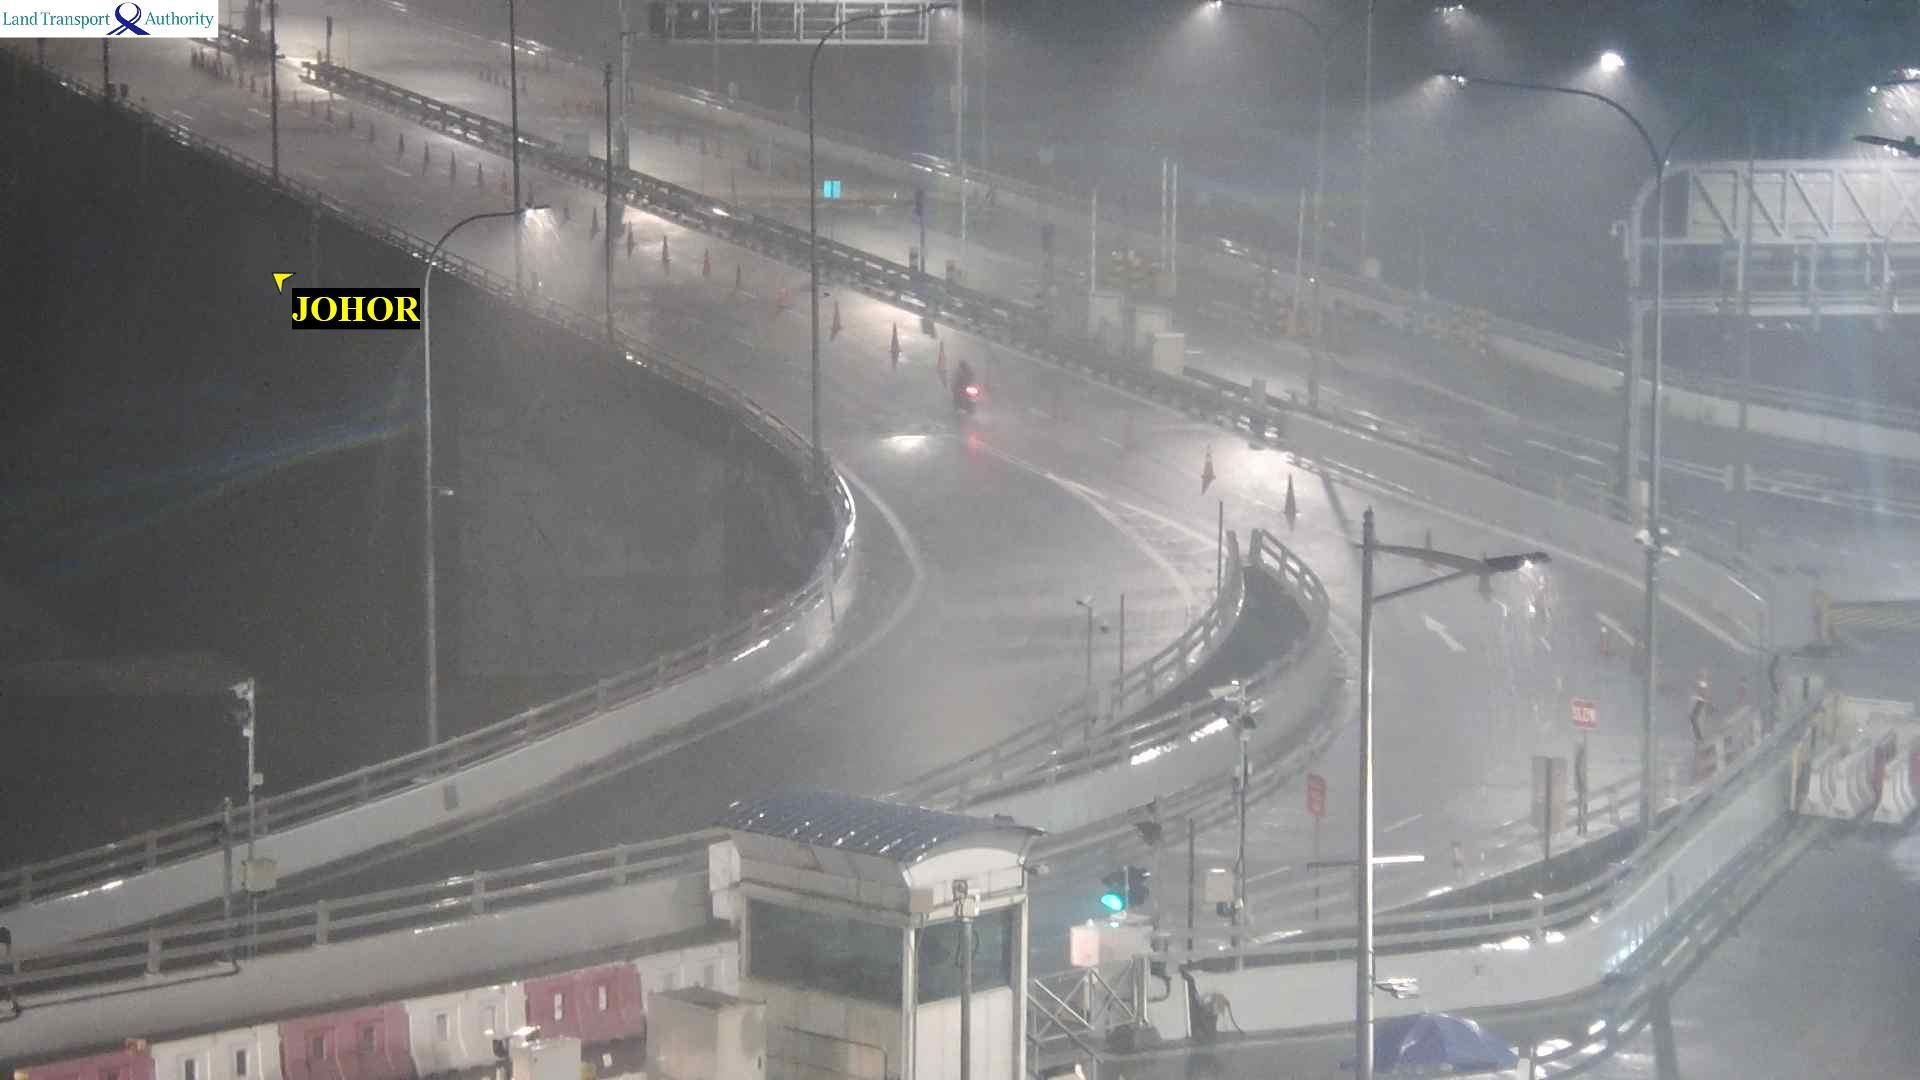vehicle-secondlink-johor: (954, 358, 978, 410)
